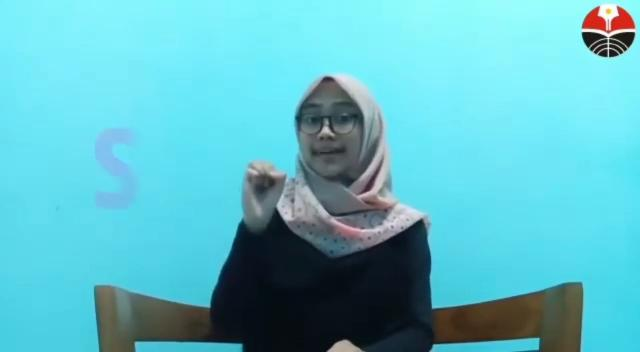S: (243, 161, 287, 213)
